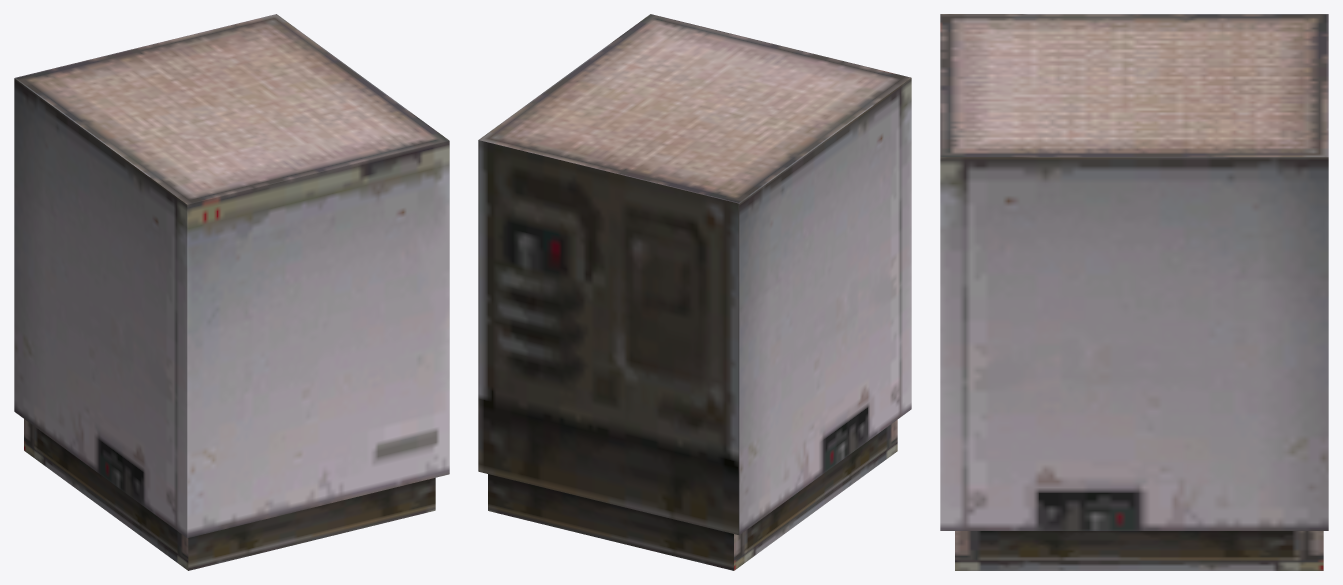
The model's file is Fridge1.glb.
3 renders of one model, left to right at view 1: azimuth 30°, elevation 25°; view 2: azimuth 150°, elevation 25°; view 3: azimuth 270°, elevation 25°, orthographic. The views are drawn at different scales.
Parts seen in each view (by area): view 1: FRIDGE1; view 2: FRIDGE1; view 3: FRIDGE1.
Part boxes in pixels (bbox=[...]): FRIDGE1: bbox=[14, 14, 449, 570]; FRIDGE1: bbox=[478, 14, 911, 570]; FRIDGE1: bbox=[940, 14, 1328, 570].
Bounding box in the file's own units: 0.7 × 0.95 × 0.8.
Materials: 1 (1 with a texture image).
